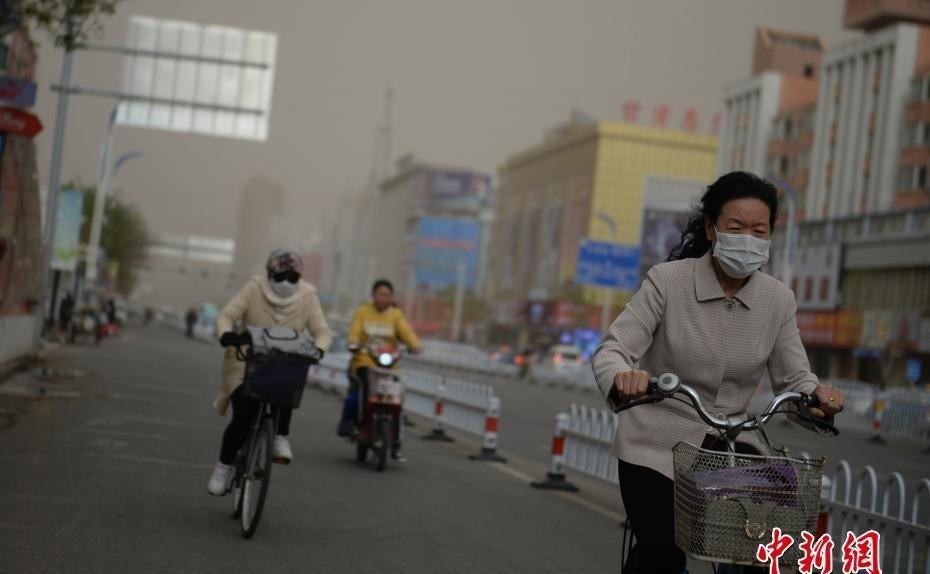Mask: (712, 216, 770, 274)
